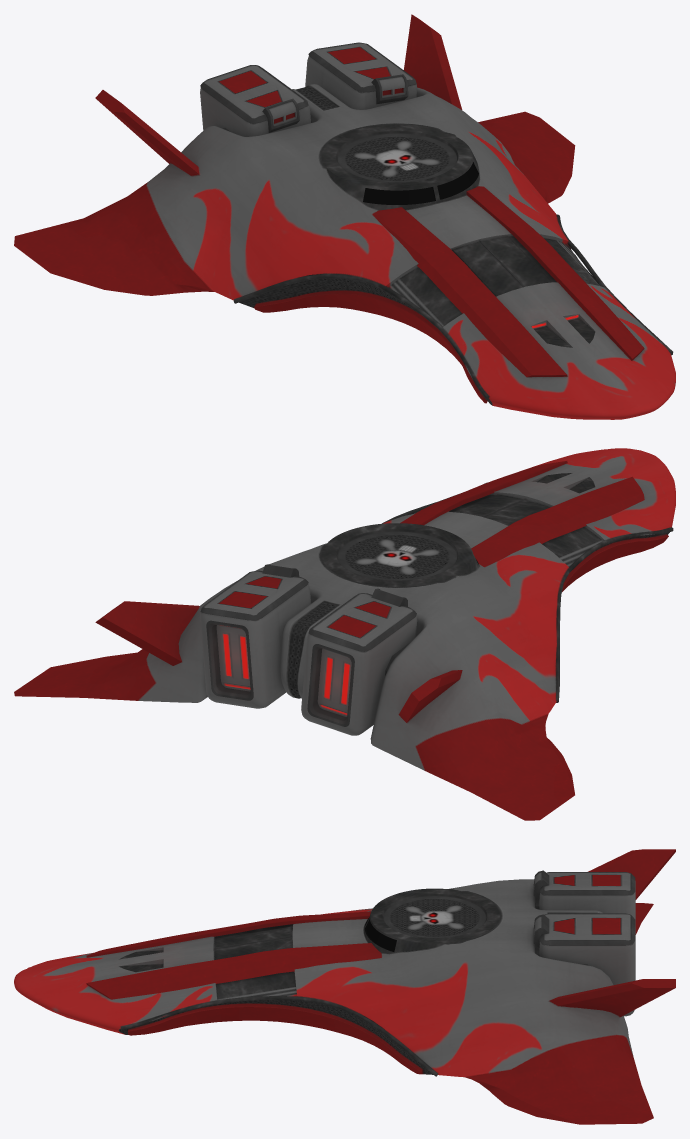
File: starbridge_pirate.gltf
3 renders of one model, top to bottom at view 1: azimuth 30°, elevation 25°; view 2: azimuth 150°, elevation 25°; view 3: azimuth 270°, elevation 25°, orthographic. The views are drawn at different scales.
Parts seen in each view (by area): view 1: Base; view 2: Base; view 3: Base.
Boxes of the visible parts, x1=… form: Base: x1=14, y1=14, x2=675, y2=419; Base: x1=14, y1=448, x2=675, y2=820; Base: x1=14, y1=849, x2=675, y2=1124.
Bounding box in the file's own units: 13 × 3.34 × 16.47.
1 material, 1 textured.
